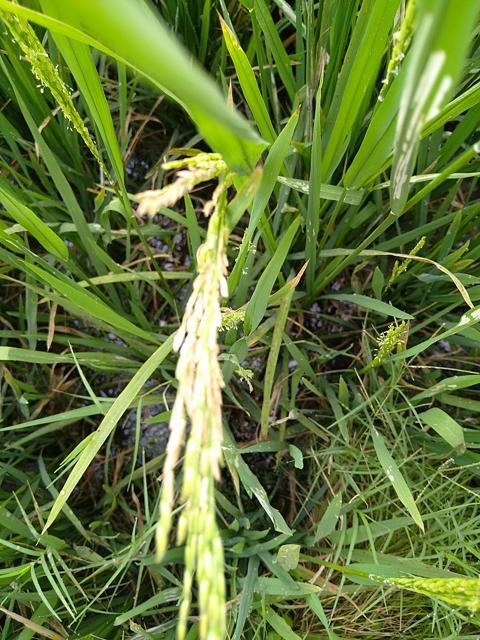Leaf Streak: (392, 49, 445, 191)
